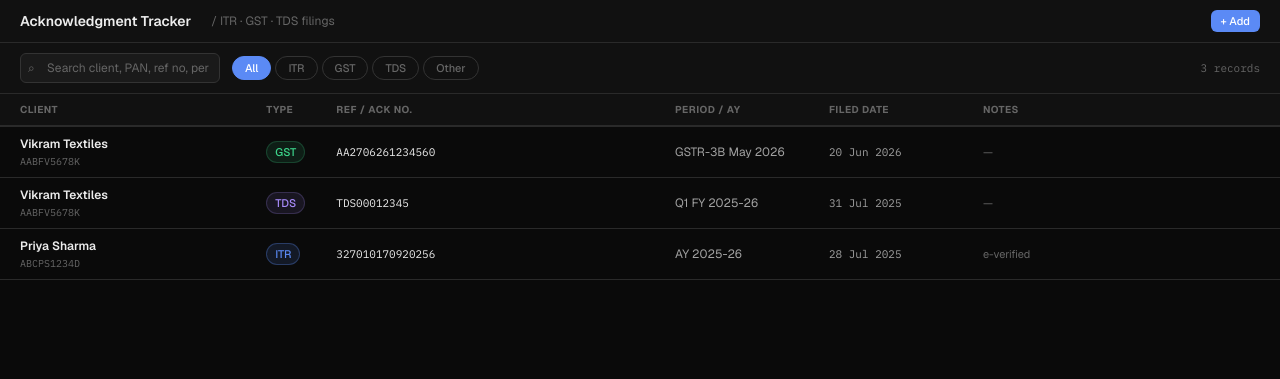
Test: AcknowledgmentPage — add form › + Add button toggles the form
The width and height of the screenshot is (1280, 379).
Click the button "+ Add".
click(1235, 21)  # box [1210,10,1260,32]
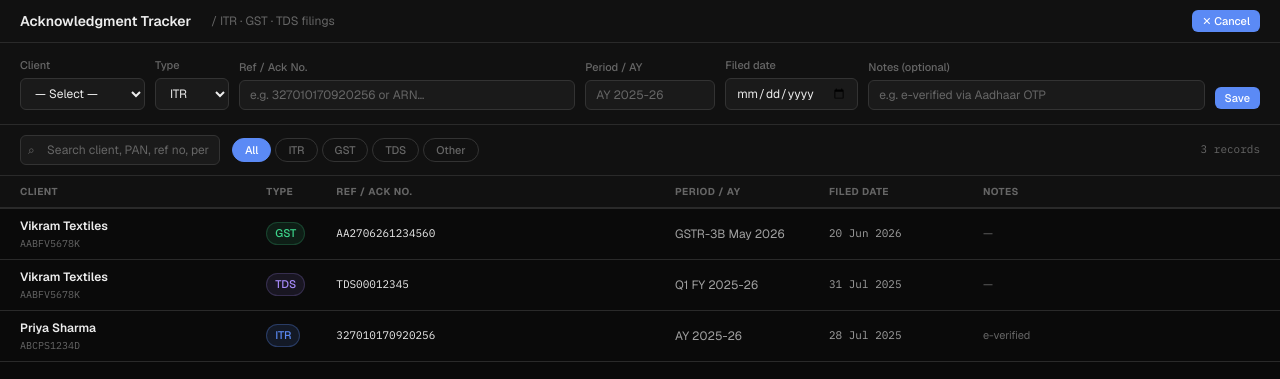
Now the field with placeholder "e.g. 327010170920256 or ARN…" is shown, box [239,80,575,110]
